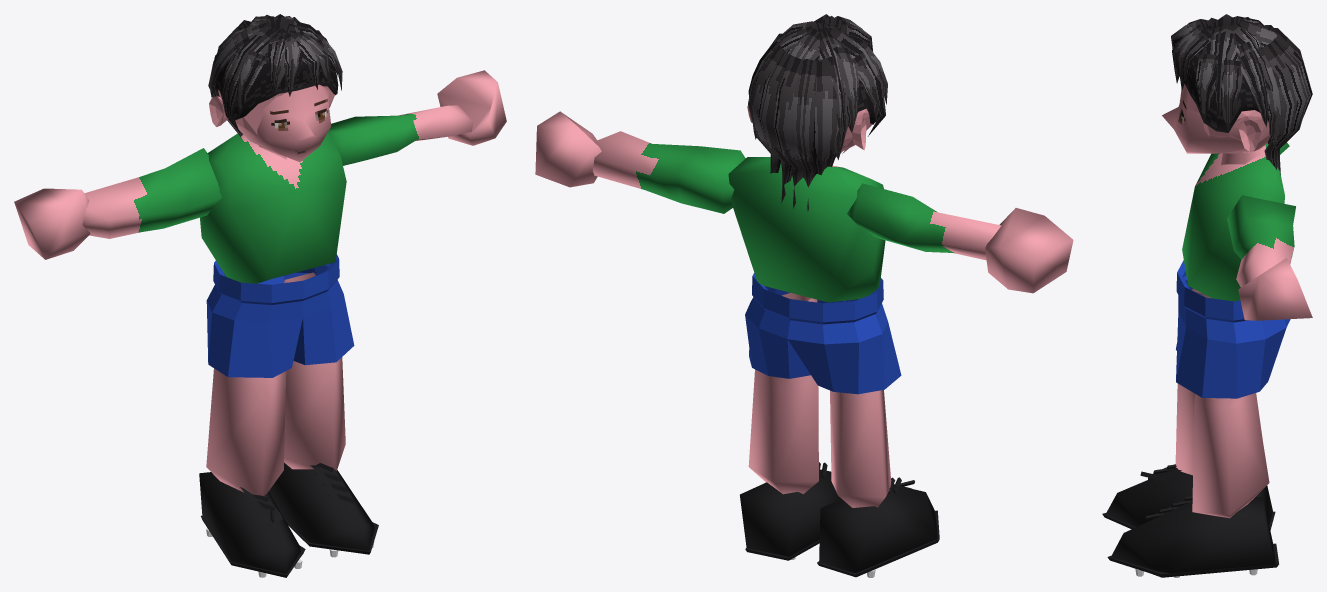
File: 07-mullet_preto.glb
The picture shows the model from 3 angles, left to right: view 1: azimuth 30°, elevation 25°; view 2: azimuth 150°, elevation 25°; view 3: azimuth 270°, elevation 25°; orthographic projection. The views are drawn at different scales.
Visible parts, largest first — view 1: Camisa_Tronco, Bermuda, Cabelo, Perna.R, Braco.R, Perna.L, Chuteira.R, Chuteira.L, Braco.L, Cabeca, Mao.R, Mao.L (+3 smaller); view 2: Cabelo, Camisa_Tronco, Bermuda, Perna.L, Braco.L, Chuteira.R, Perna.R, Braco.R, Mao.R, Chuteira.L, Mao.L, Chuteira_Sola.R; view 3: Cabelo, Bermuda, Chuteira.L, Camisa_Tronco, Perna.L, Braco.L, Mao.L, Chuteira.R, Cabeca, Perna.R, Chuteira_Sola.L, Cranio (+4 smaller).
Part boxes in pixels (x1,y1,x2,y2): Camisa_Tronco: [200, 133, 346, 283]; Bermuda: [206, 254, 354, 377]; Cabelo: [208, 14, 342, 137]; Perna.R: [206, 368, 286, 500]; Braco.R: [82, 148, 222, 238]; Perna.L: [284, 272, 345, 471]; Chuteira.R: [199, 472, 303, 573]; Chuteira.L: [269, 462, 374, 550]; Braco.L: [328, 105, 473, 165]; Cabeca: [236, 84, 331, 162]; Mao.R: [14, 188, 90, 259]; Mao.L: [437, 70, 506, 145]; Cabelo: [748, 14, 887, 211]; Camisa_Tronco: [728, 157, 885, 302]; Bermuda: [745, 273, 901, 394]; Perna.L: [748, 293, 818, 494]; Braco.L: [593, 131, 745, 213]; Chuteira.R: [819, 484, 937, 572]; Perna.R: [830, 390, 891, 507]; Braco.R: [847, 183, 1001, 260]; Mao.R: [985, 208, 1073, 293]; Chuteira.L: [740, 469, 841, 556]; Mao.L: [535, 111, 601, 187]; Chuteira_Sola.R: [817, 510, 939, 577]; Cabelo: [1171, 14, 1312, 174]; Bermuda: [1176, 260, 1290, 398]; Chuteira.L: [1111, 497, 1276, 577]; Camisa_Tronco: [1182, 143, 1284, 301]; Perna.L: [1192, 393, 1269, 518]; Braco.L: [1227, 195, 1295, 287]; Mao.L: [1238, 258, 1312, 320]; Chuteira.R: [1106, 467, 1272, 526]; Cabeca: [1162, 84, 1254, 153]; Perna.R: [1175, 288, 1262, 475]; Chuteira_Sola.L: [1107, 543, 1278, 577]; Cranio: [1202, 110, 1270, 153].
Bounding box in the file's own units: 0.4523 × 0.45 × 0.1617.
3 materials, 3 textured.
